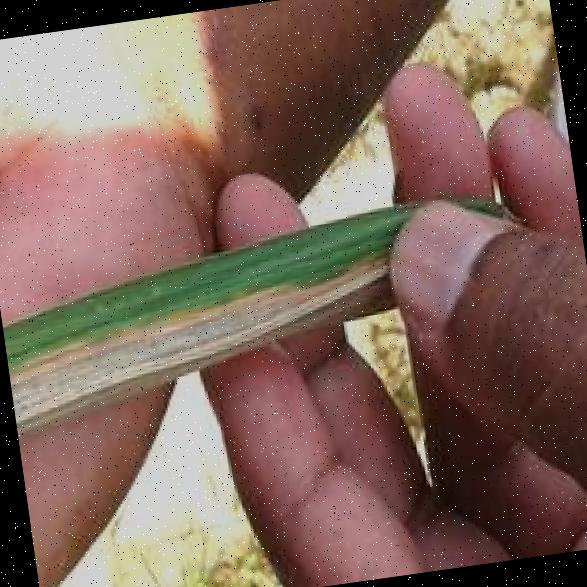Bacteria_Leaf_Blight: (23, 263, 485, 402)
